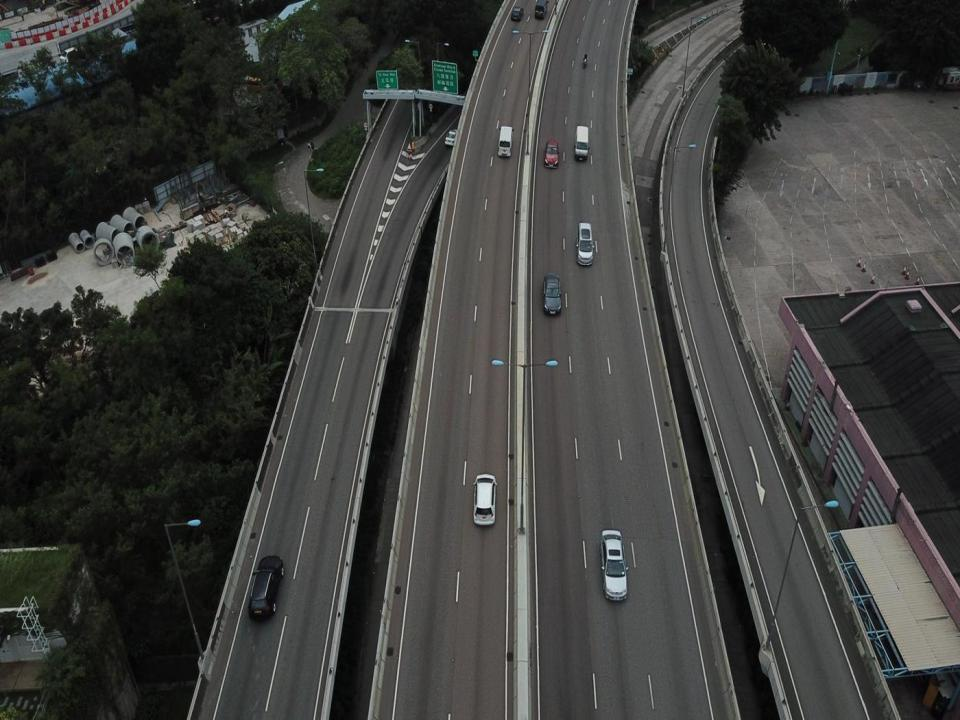car: (246, 554, 285, 620), (600, 528, 630, 604), (470, 472, 498, 529), (573, 217, 597, 266), (539, 270, 562, 314), (542, 139, 560, 170), (444, 125, 462, 147), (510, 5, 525, 21)
van: (496, 125, 516, 159), (573, 124, 590, 163), (532, 0, 549, 21)
